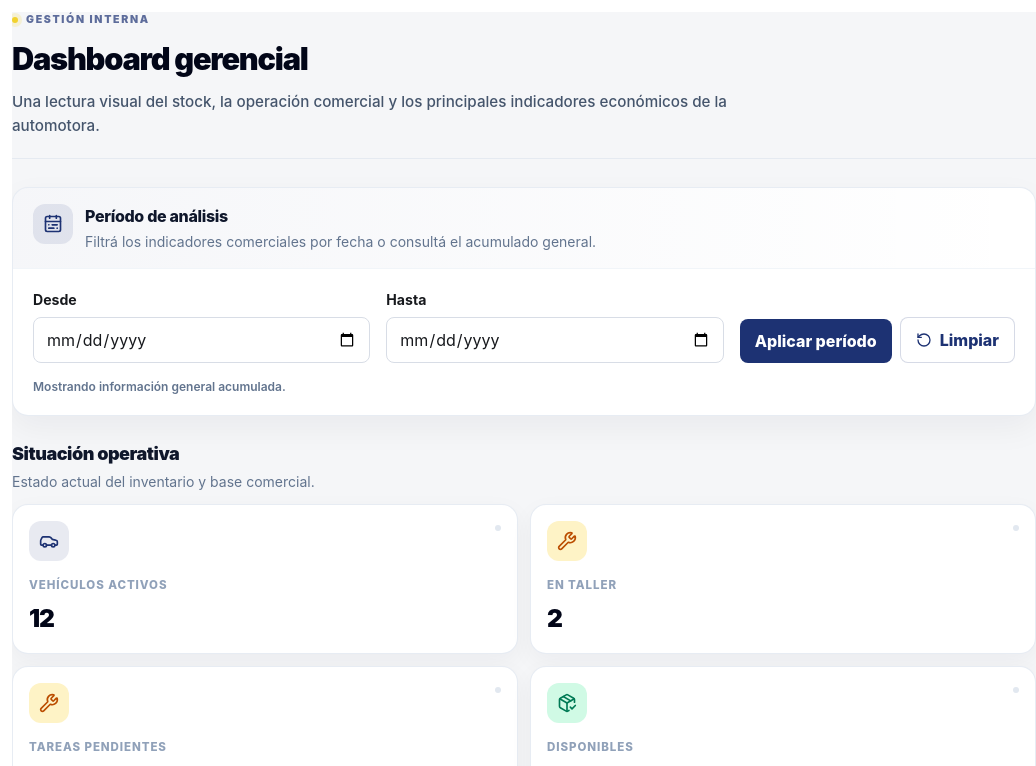
DashboardPage › rechaza un rango de fechas invertido sin consultar nuevamente la API
The image size is (1036, 766).
Expected: the heading "Situación operativa" is shown, x1=12 y1=443 x2=179 y2=464
In the date field labelled "Desde": (202, 340) x1=33 y1=317 x2=370 y2=363, type "2026-10-01"
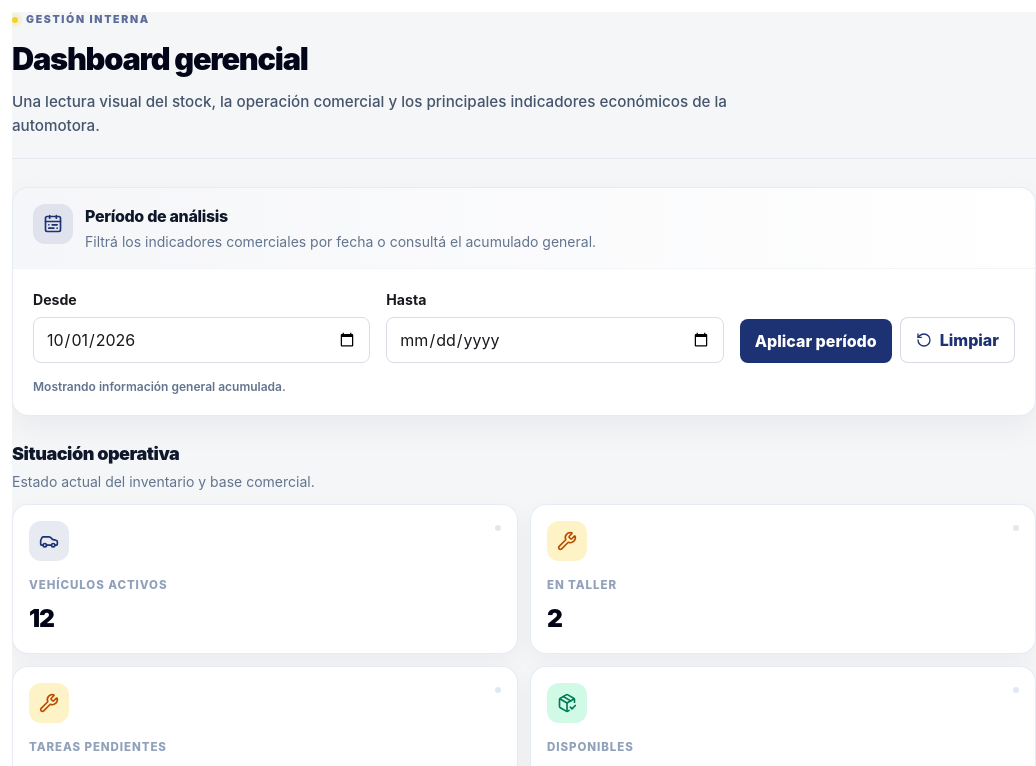
In the date field labelled "Hasta": (555, 340) x1=386 y1=317 x2=724 y2=363, type "2026-09-01"
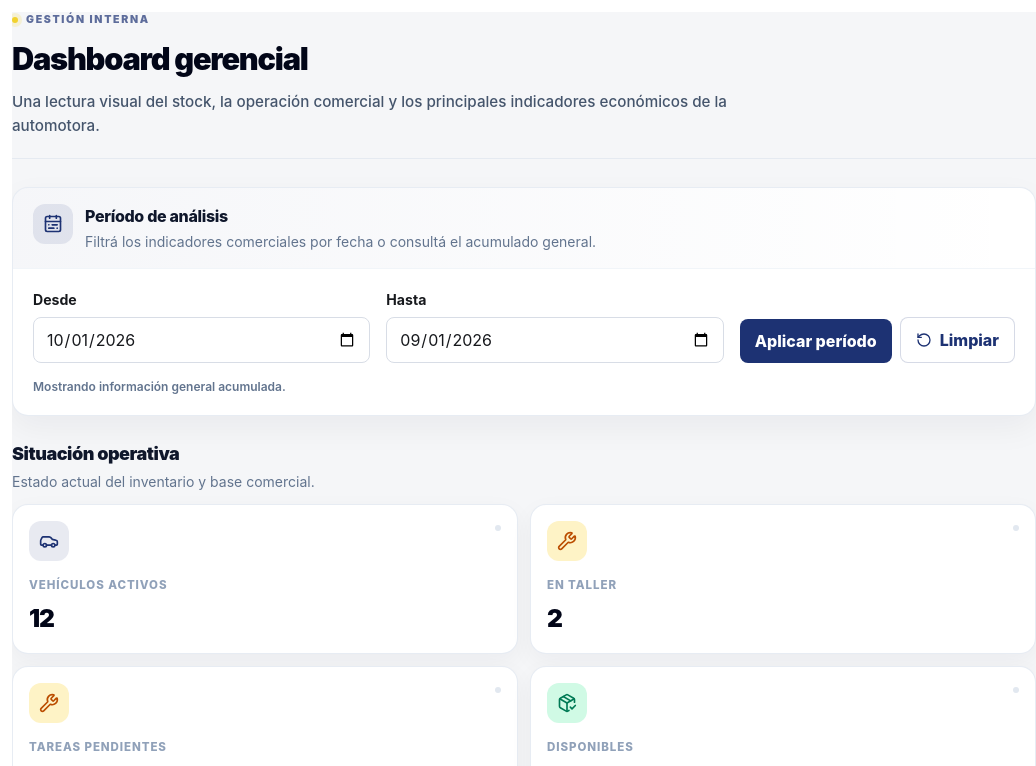
Click the button "Aplicar período": click(816, 341) x1=740 y1=319 x2=892 y2=363
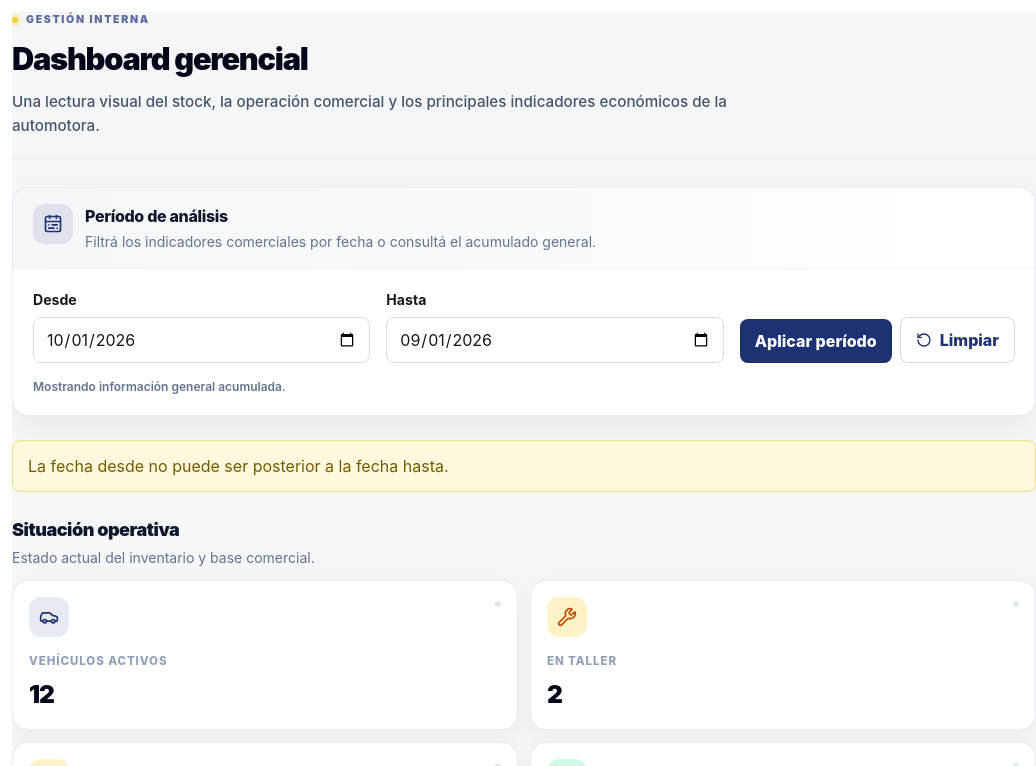
Expected: the text "La fecha desde no puede ser posterior a la fecha hasta." is shown, x1=12 y1=440 x2=1035 y2=492
